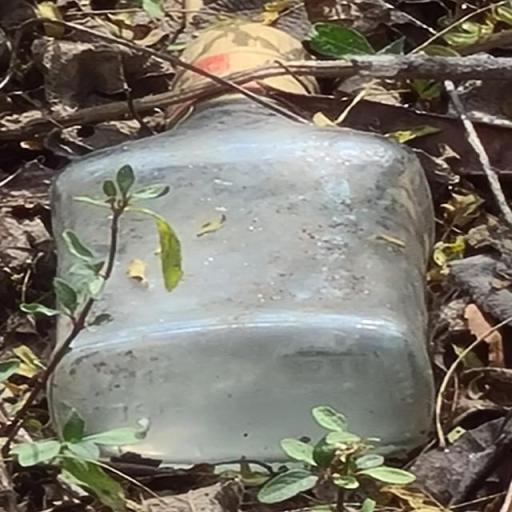glass: (32, 18, 454, 471)
